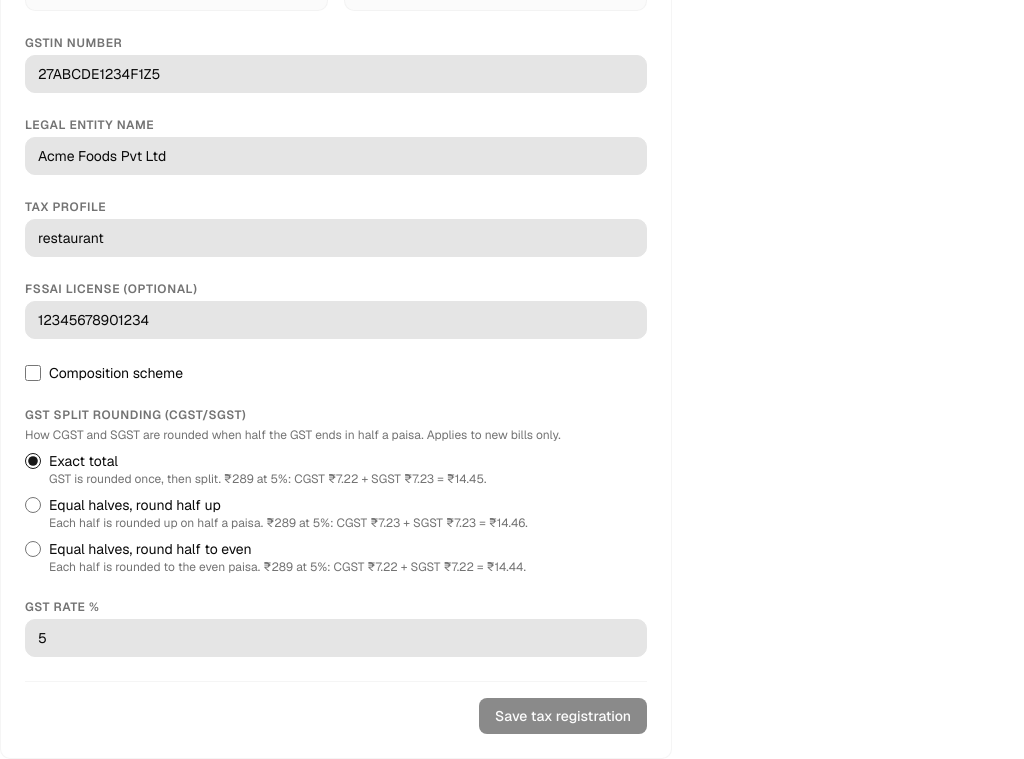
Scenario: TaxRegistrationEditor › sends a null GST rate when the field is cleared
(page scrolled)
Step 1. Clear the number field with test id "tax-gst-rate" → [336, 638], box left=25, top=619, right=647, bottom=657
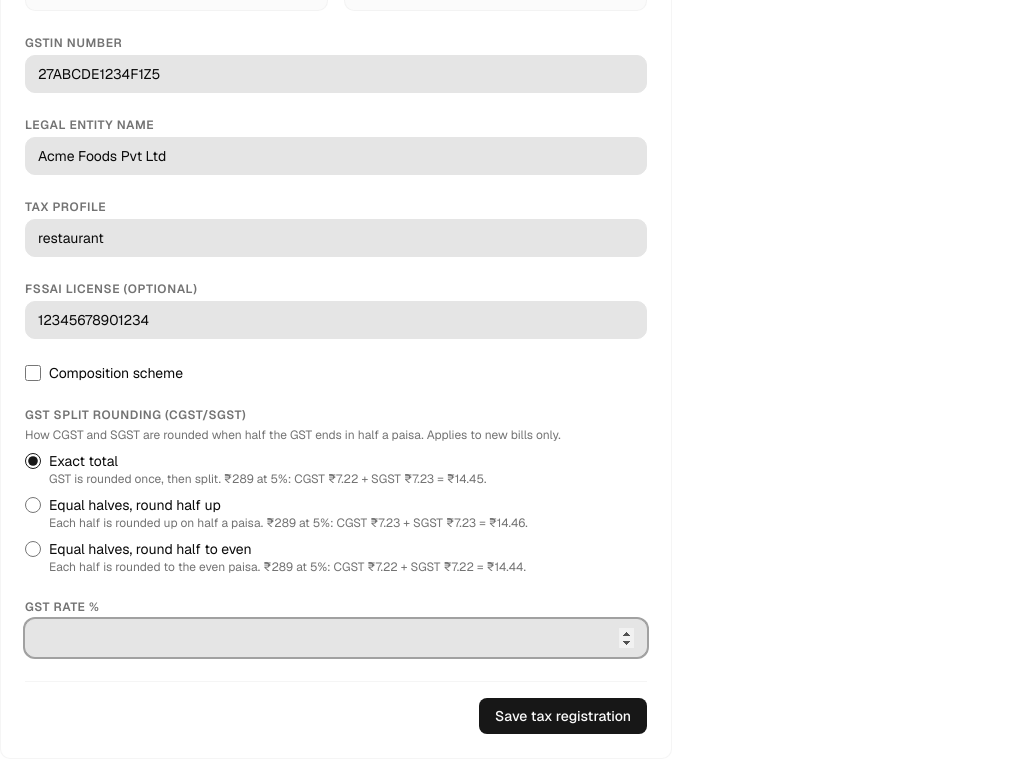
Step 2. Click the button with test id "tax-registration-save" → [563, 716], box left=479, top=698, right=647, bottom=734
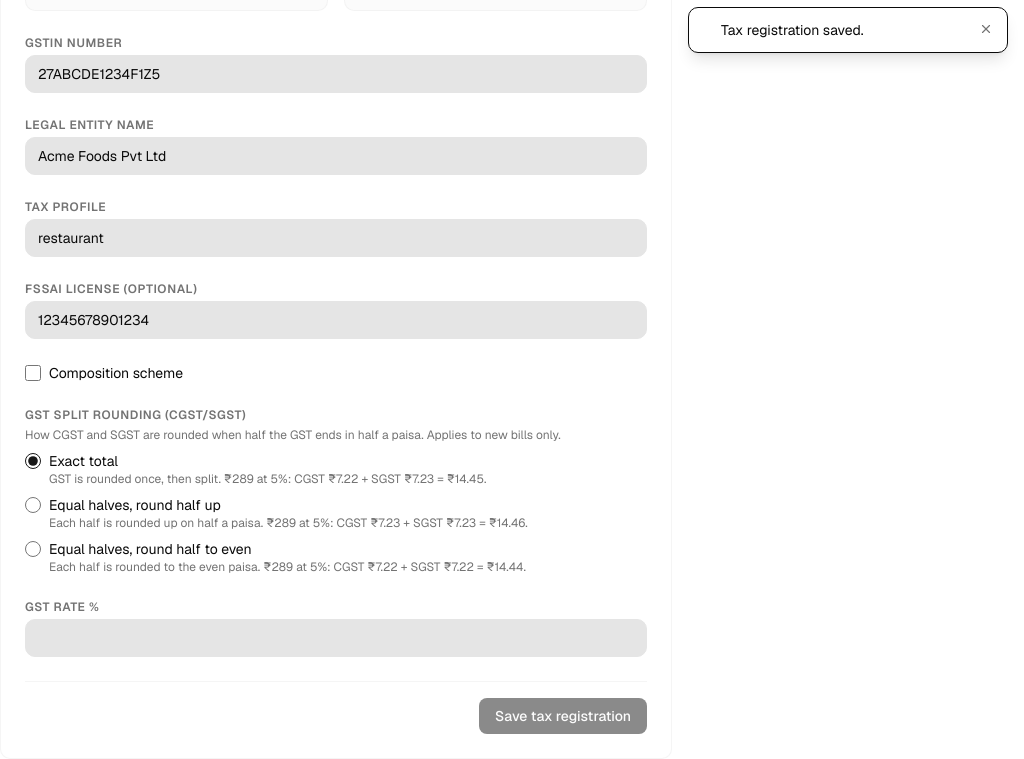
Check: the button with test id "tax-registration-save" is disabled, box left=479, top=698, right=647, bottom=734
